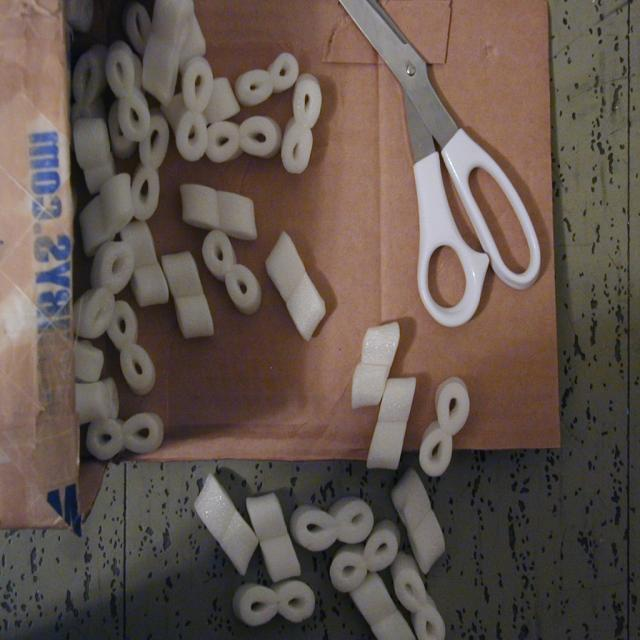scissors: (337, 0, 541, 327)
